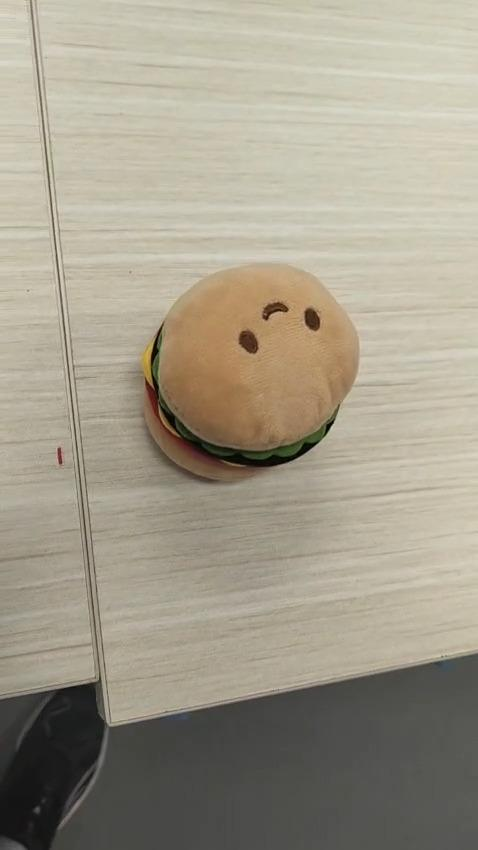hamburger: (140, 260, 360, 482)
